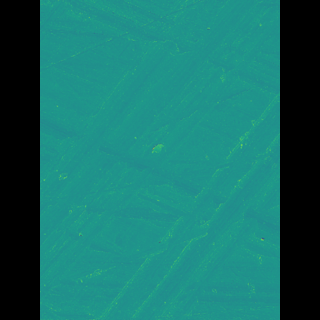Loch: (83, 11, 241, 303)
